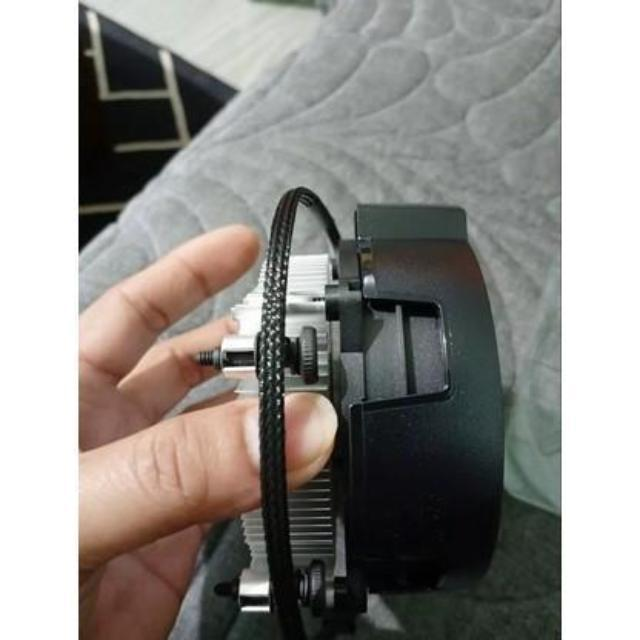CPU_Fan: (228, 200, 500, 629)
